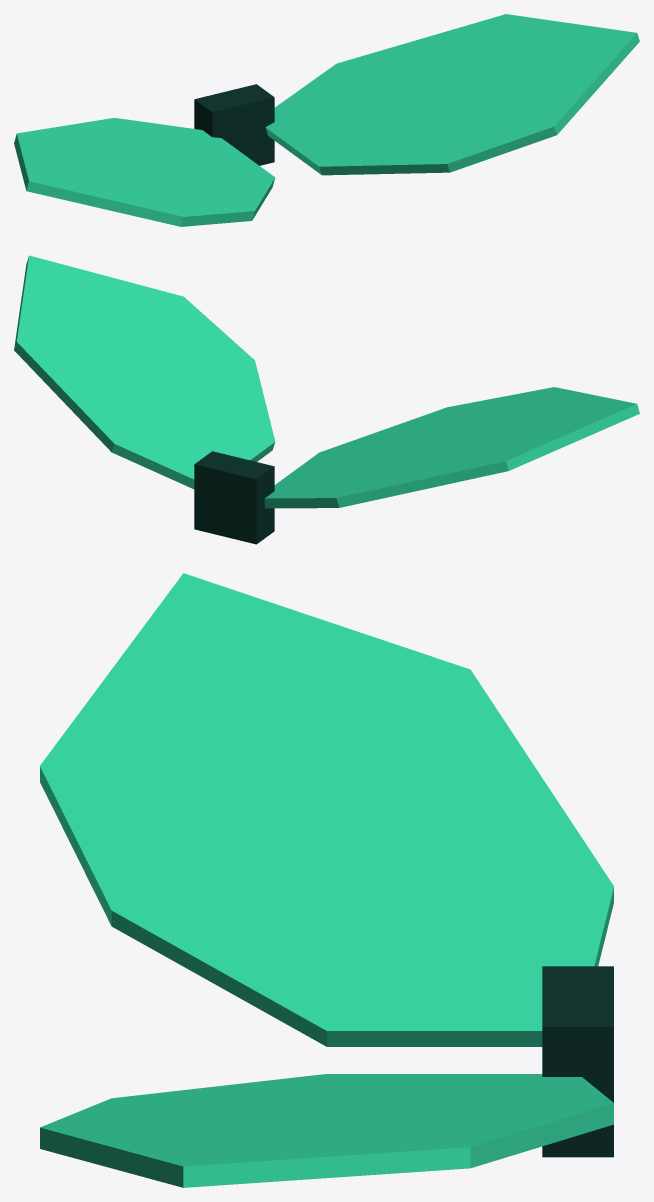
The model's file is vortex_booster.glb.
3 renders of one model, top to bottom at view 1: azimuth 30°, elevation 25°; view 2: azimuth 150°, elevation 25°; view 3: azimuth 270°, elevation 25°, orthographic. The views are drawn at different scales.
Parts seen in each view (by area): view 1: vortex_booster_v0; view 2: vortex_booster_v0; view 3: vortex_booster_v0.
Boxes of the visible parts, <box> form: vortex_booster_v0: <box>14,14,639,226</box>; vortex_booster_v0: <box>14,255,639,544</box>; vortex_booster_v0: <box>40,573,613,1187</box>.
Bounding box in the file's own units: 0.7896 × 0.158 × 0.32.
